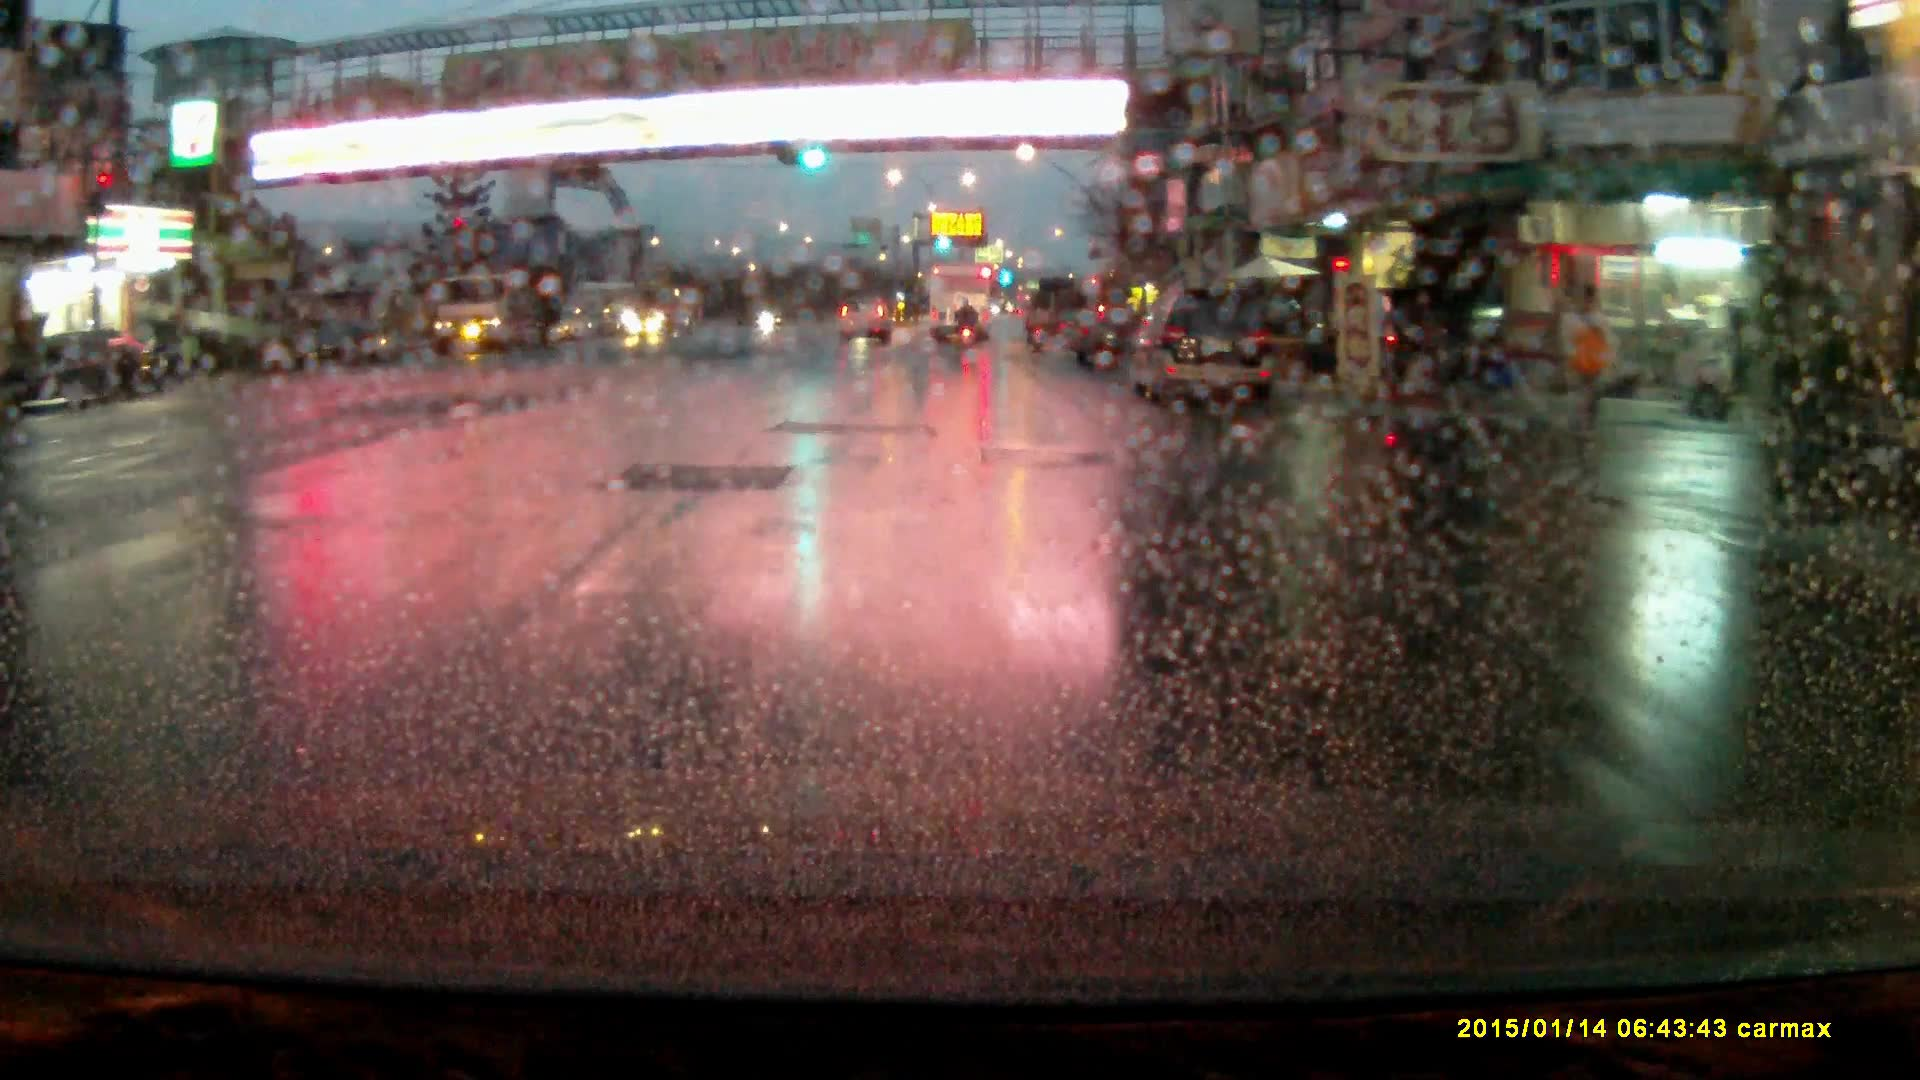pedestrian: (1551, 274, 1619, 462)
rider: (953, 292, 980, 352)
vehicle: (1130, 288, 1276, 404), (5, 326, 148, 413), (1383, 284, 1509, 379), (430, 265, 549, 358), (930, 262, 990, 336), (623, 285, 692, 334), (841, 293, 894, 342)
